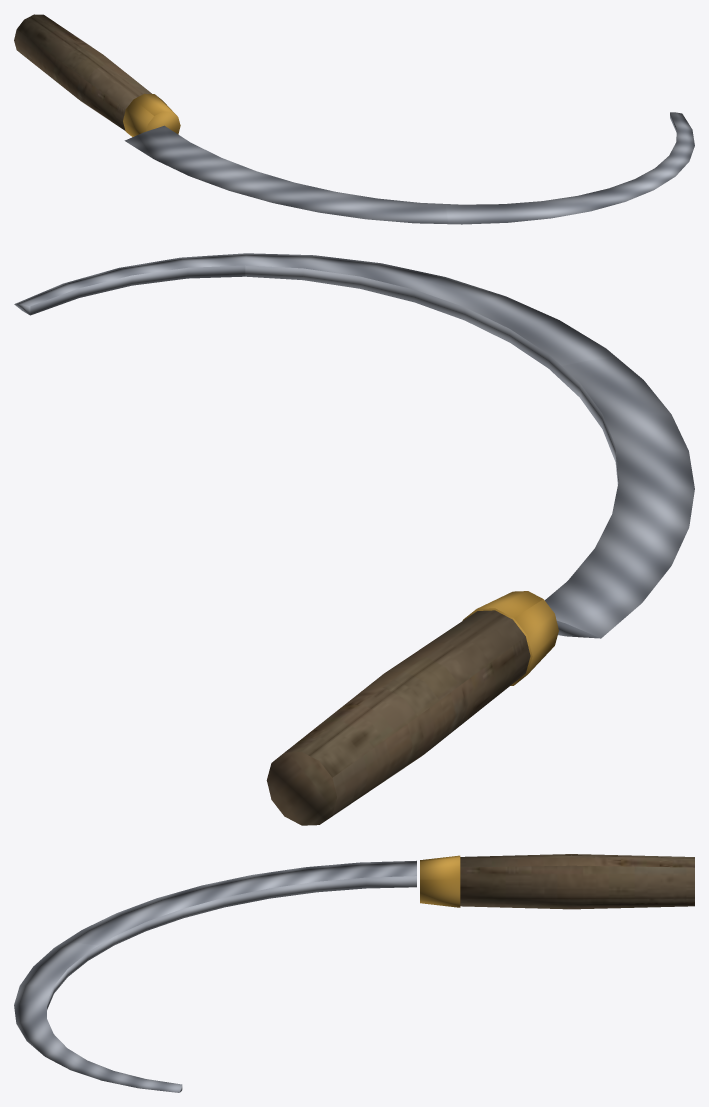
Rendered from hoz.glb.
3 views of the same model, one above another, from view 1: azimuth 30°, elevation 25°; view 2: azimuth 150°, elevation 25°; view 3: azimuth 270°, elevation 25° (orthographic). The views are drawn at different scales.
Visible parts, largest first — view 1: hoz; view 2: hoz; view 3: hoz.
Boxes of the visible parts, bbox=[...] form: hoz: bbox=[14, 14, 694, 224]; hoz: bbox=[14, 253, 694, 825]; hoz: bbox=[14, 854, 694, 1092].
Bounding box in the file's own units: 0.3557 × 0.036 × 0.4409.
Materials: 3 (3 with a texture image).
